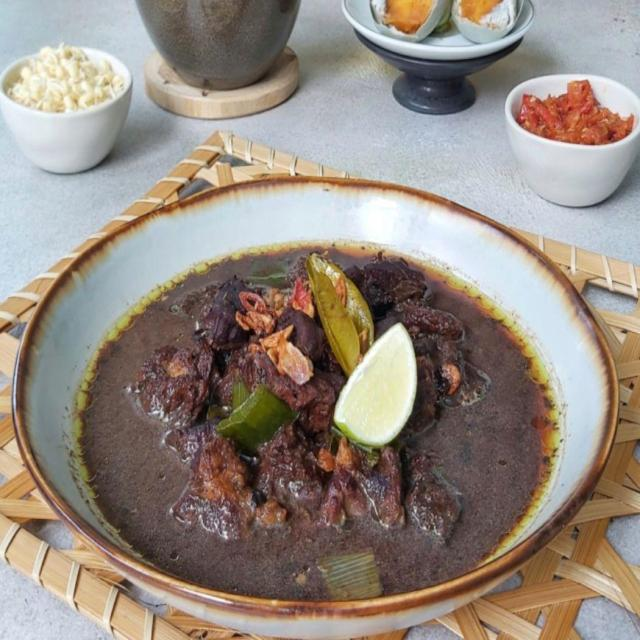Rawon: (55, 218, 562, 582)
